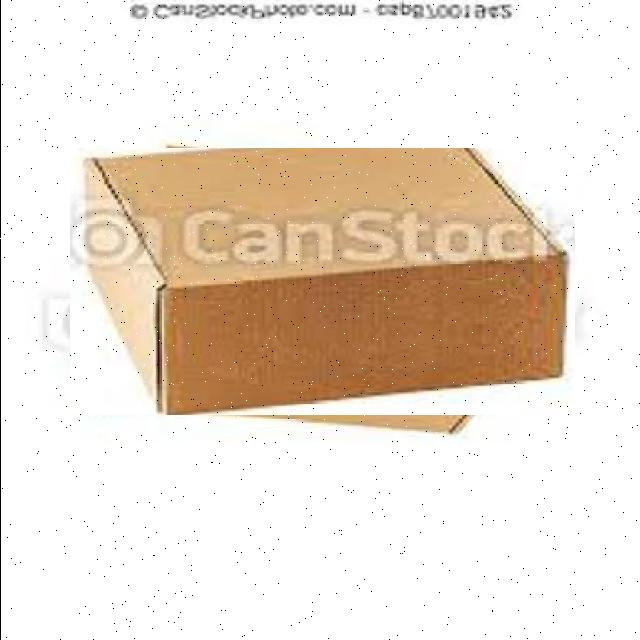normal: (69, 148, 574, 415)
